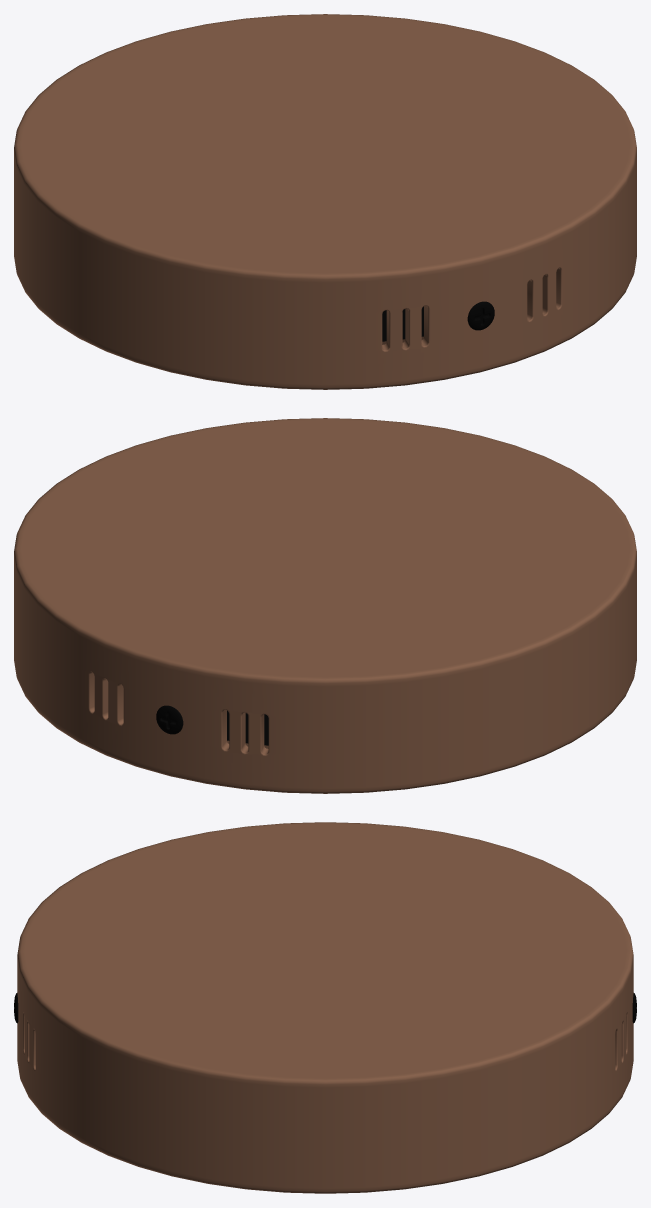
The picture shows the model from 3 angles, top to bottom: view 1: azimuth 30°, elevation 25°; view 2: azimuth 150°, elevation 25°; view 3: azimuth 270°, elevation 25°; orthographic projection.
Visible parts, largest first — view 1: svet_1, svet_3; view 2: svet_1, svet_3; view 3: svet_1.
Boxes of the visible parts, x1=… form: svet_1: x1=14, y1=14, x2=636, y2=389; svet_3: x1=467, y1=301, x2=494, y2=330; svet_1: x1=14, y1=418, x2=636, y2=793; svet_3: x1=156, y1=705, x2=183, y2=734; svet_1: x1=17, y1=822, x2=633, y2=1193.
Size of the model in its own units: 172 by 36.15 by 174.
